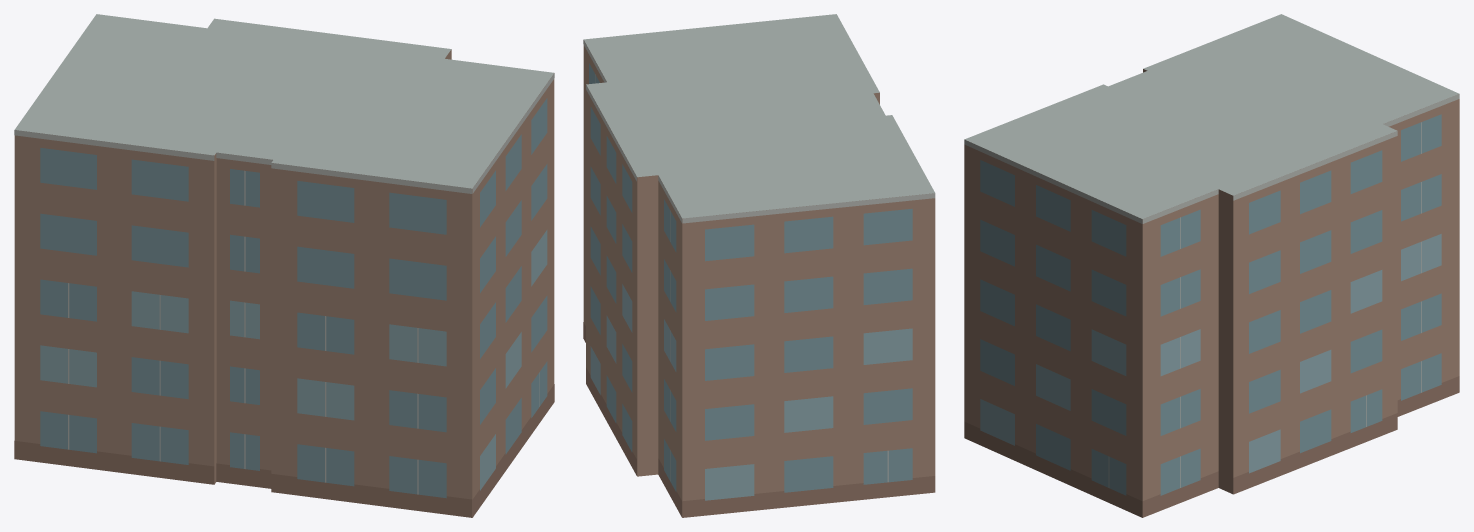
The model's file is survey-upis-32732652.glb.
3 renders of one model, left to right at view 1: azimuth 30°, elevation 25°; view 2: azimuth 150°, elevation 25°; view 3: azimuth 270°, elevation 25°, orthographic. The views are drawn at different scales.
Parts seen in each view (by area): view 1: survey-upis-32732652.tmp; view 2: survey-upis-32732652.tmp; view 3: survey-upis-32732652.tmp.
Boxes of the visible parts, box(x1,y1,x2,y2) form: survey-upis-32732652.tmp: box(14, 14, 554, 517); survey-upis-32732652.tmp: box(583, 14, 935, 517); survey-upis-32732652.tmp: box(964, 14, 1459, 517).
Bounding box in the file's own units: 21.52 × 14.6 × 21.94.
